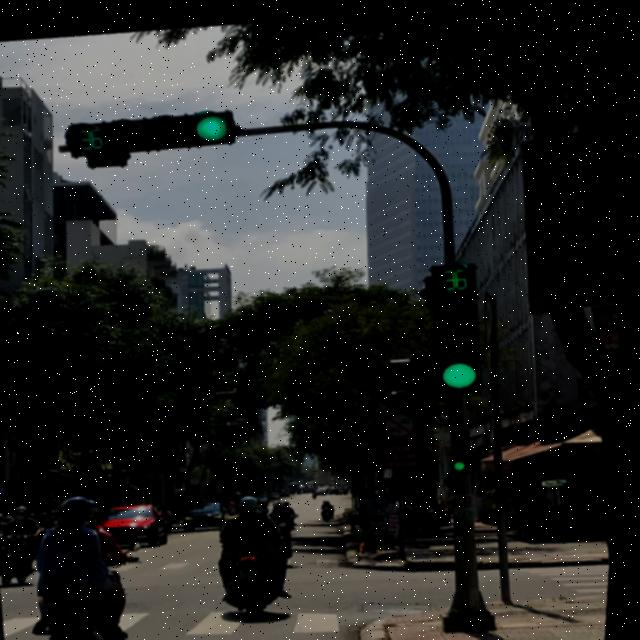Green: (96, 92, 245, 170), (423, 285, 512, 394), (445, 411, 486, 473)
